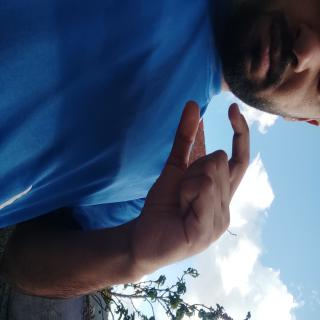DELL: (65, 89, 216, 265)
